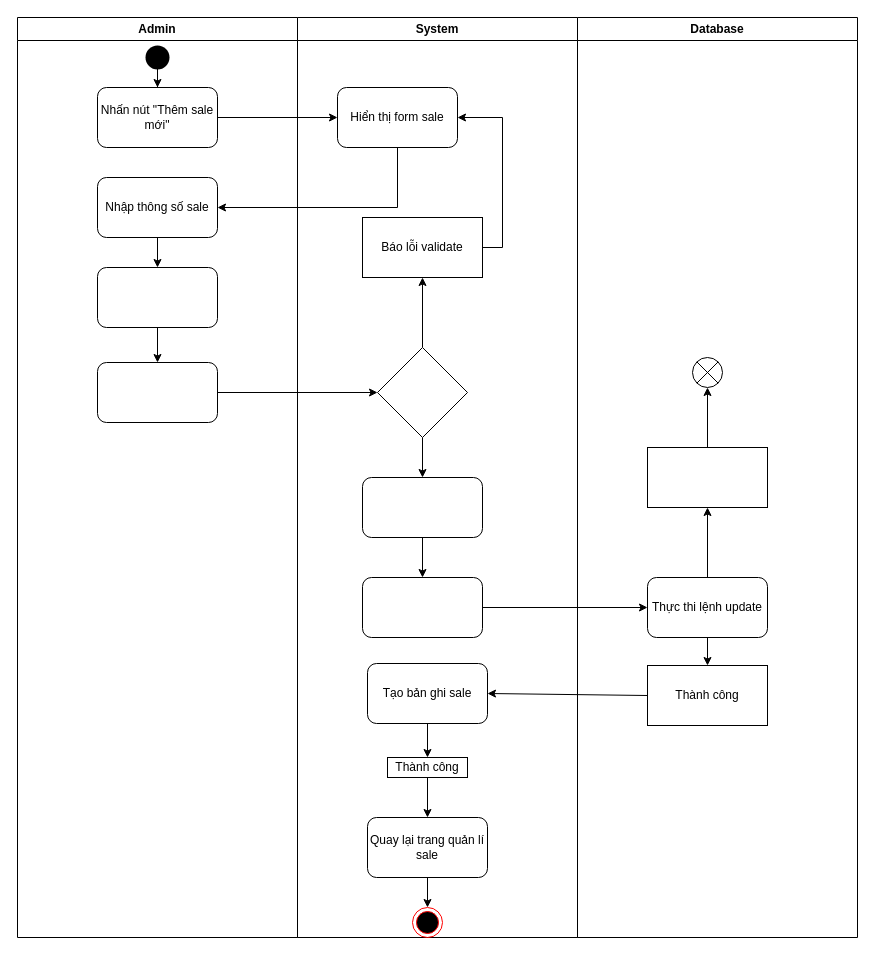
The diagram is 875 pixels wide and 955 high, and some of its shapes have lost their labels. The shapes that lost their labels are listed below. From the top down, each one's centre as x and y in pixels, then its label:
[157,297]: Chọn sản phẩm áp dụng
[157,392]: Nhấn nút "Lưu"
[422,392]: Validate dữ liệu
[707,477]: Lỗi Database / Redirect
[422,507]: Lấy danh sách sản phẩm
[422,607]: Vòng lặp: Cập nhật giá
